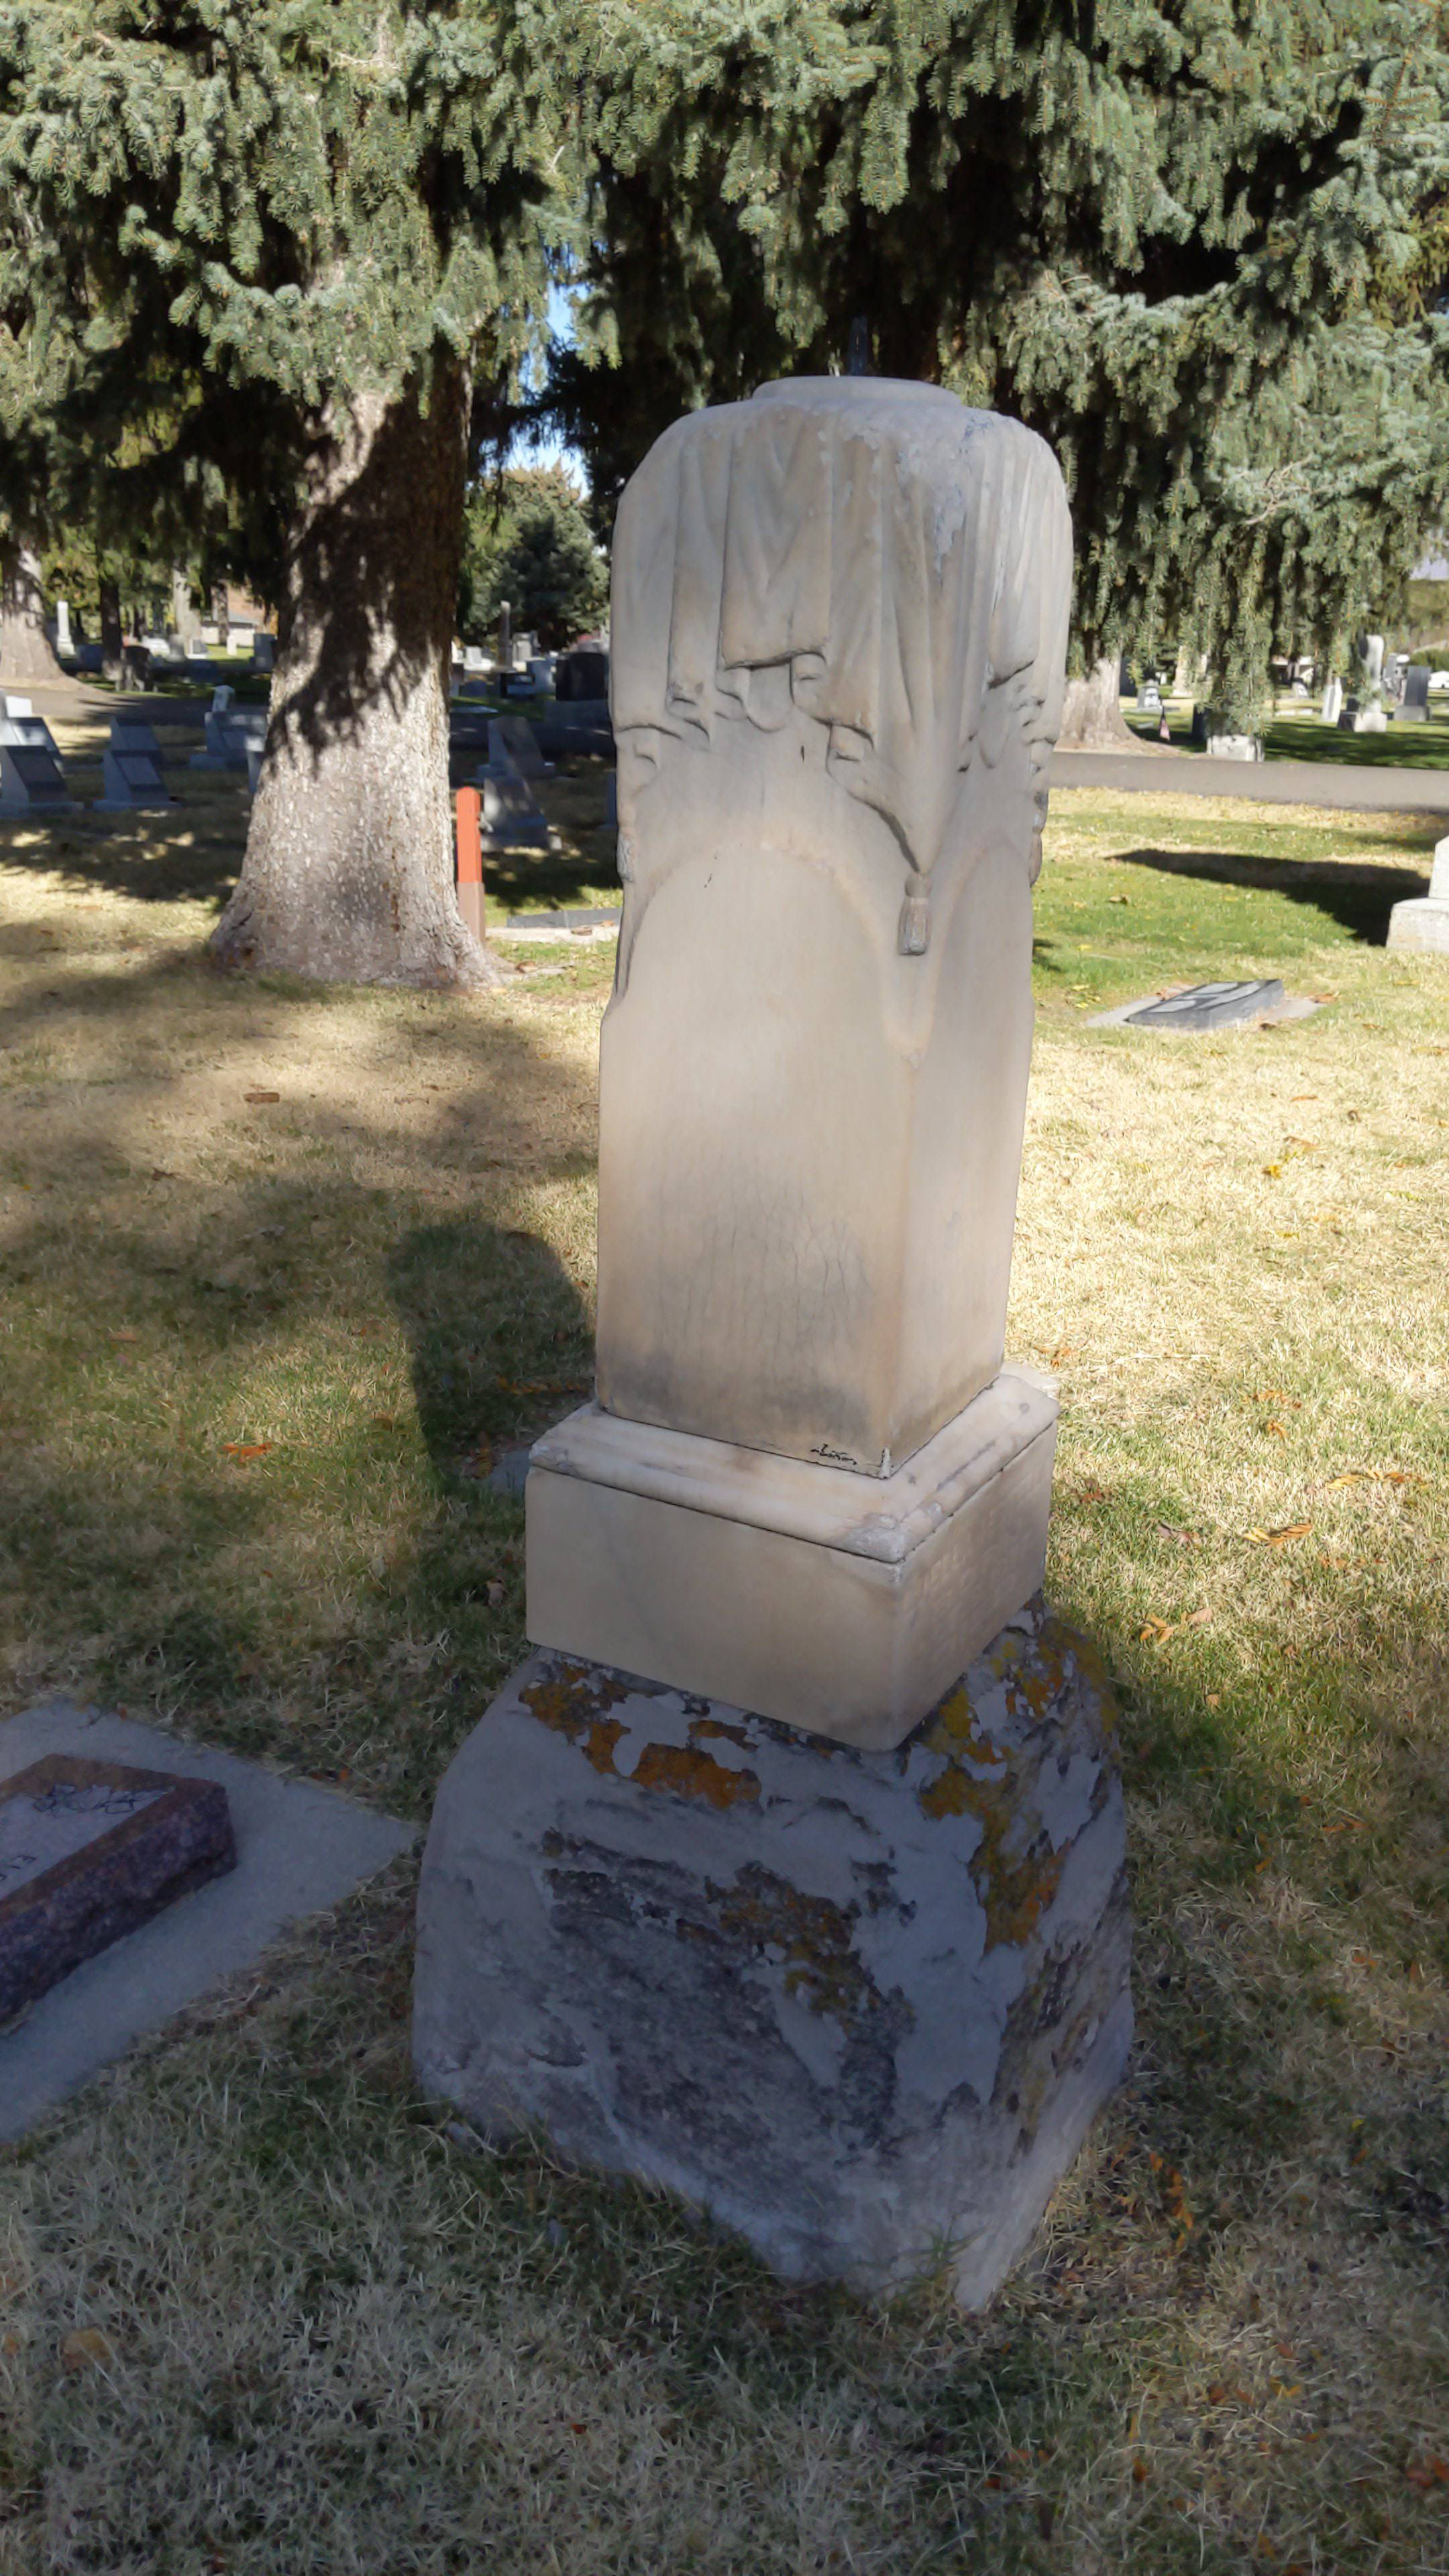obelisk: (531, 387, 1062, 1741)
